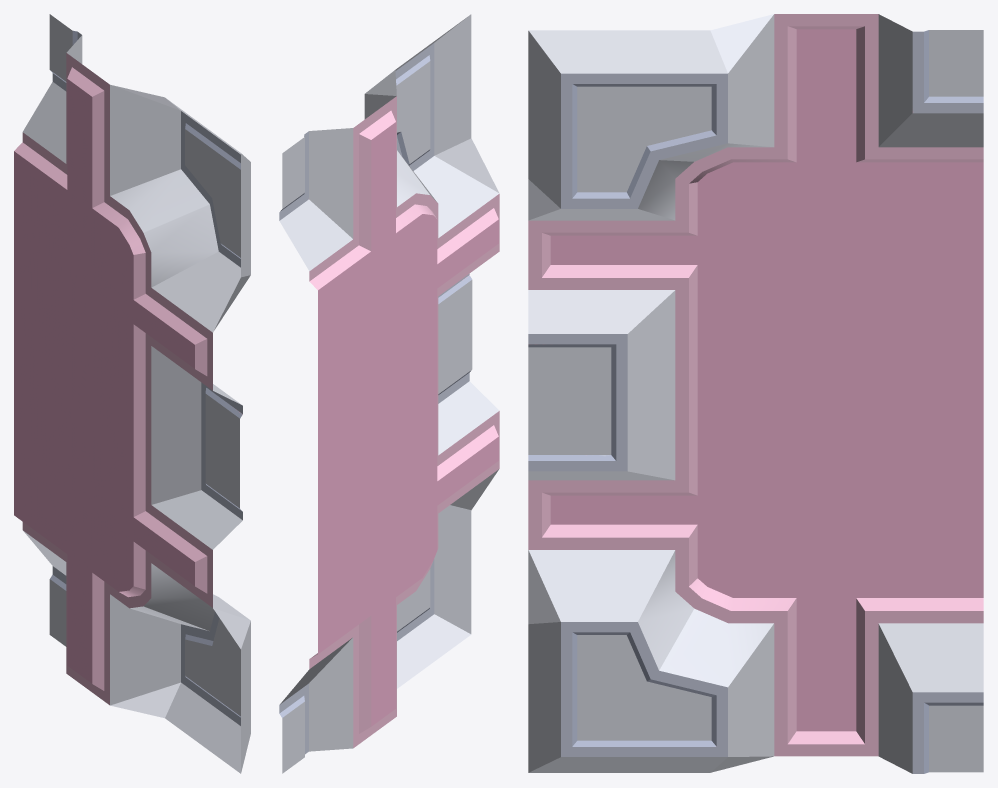
File: WallPanel_EndLeft.fbx
3 views of the same model, side by side, from view 1: azimuth 30°, elevation 25°; view 2: azimuth 150°, elevation 25°; view 3: azimuth 270°, elevation 25° (orthographic). The views are drawn at different scales.
Visible parts, largest first — view 1: EndPanelLeft5; view 2: EndPanelLeft5; view 3: EndPanelLeft5.
Part boxes in pixels (x1,y1,x2,y2): EndPanelLeft5: (14, 14, 250, 773); EndPanelLeft5: (279, 14, 499, 773); EndPanelLeft5: (528, 14, 983, 773).
Bounding box in the file's own units: 36.55 × 360 × 200.
1 material, 1 textured.
